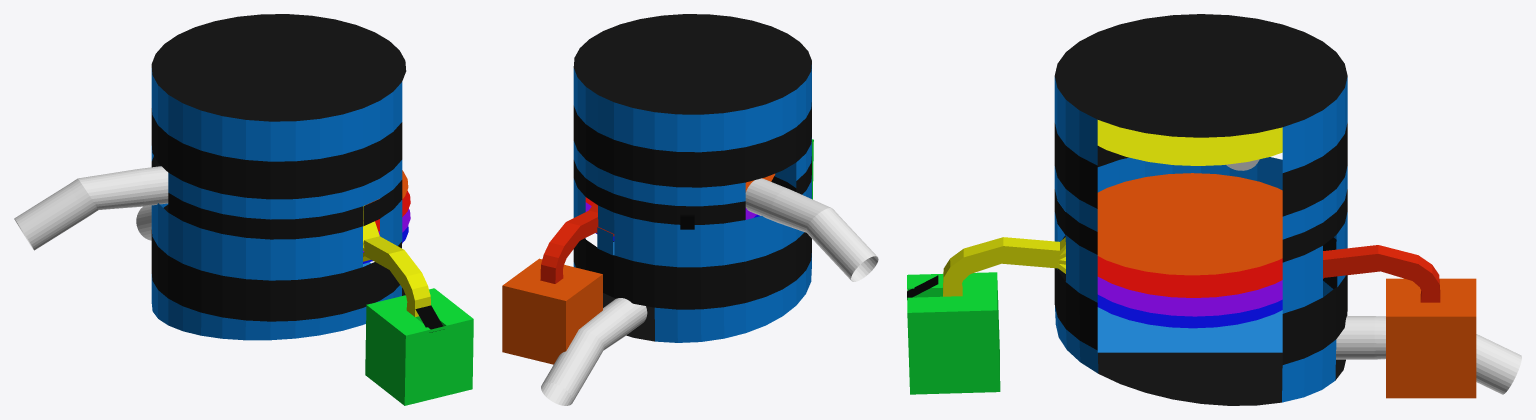
The model's file is WaterPurifier.fbx.
3 renders of one model, left to right at view 1: azimuth 30°, elevation 25°; view 2: azimuth 150°, elevation 25°; view 3: azimuth 270°, elevation 25°, orthographic. The views are drawn at different scales.
Visible parts, largest first — view 1: Cylinder, Cube.001, Cylinder.002, Cylinder.001; view 2: Cylinder, Cube.003, Cylinder.002, Cylinder.001; view 3: Cylinder, Cube.001, Cube.003, Plane, Cylinder.001.
Boxes of the visible parts, x1,y1,x2,y2 form: Cylinder: (151,14,410,340); Cube.001: (363,205,473,405); Cylinder.002: (14,166,168,250); Cylinder.001: (136,205,151,240); Cylinder: (573,14,811,342); Cube.003: (502,203,614,364); Cylinder.002: (745,178,878,281); Cylinder.001: (541,298,647,405); Cylinder: (1054,14,1347,405); Cube.001: (907,237,1065,394); Cube.003: (1323,245,1476,398); Plane: (1097,307,1282,352); Cylinder.001: (1336,316,1521,394).
Size of the model in its own units: 311 by 234 by 420.
